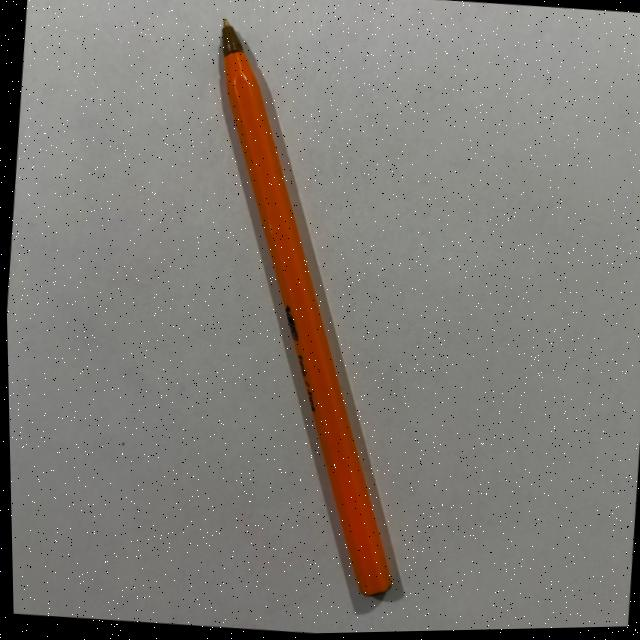pencil: (222, 19, 390, 597)
